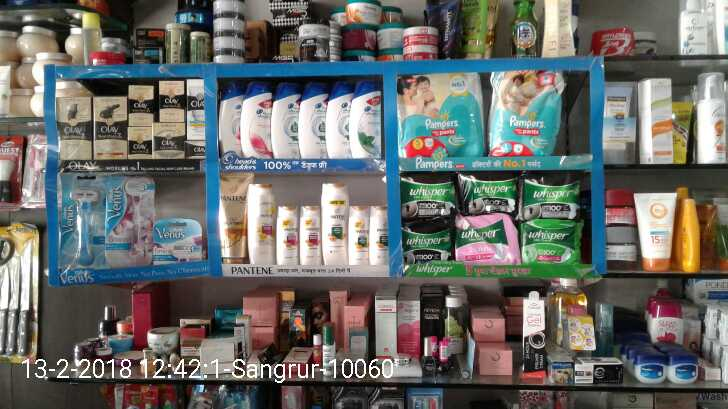venus: (105, 175, 153, 263), (61, 175, 105, 266), (153, 217, 199, 264)
